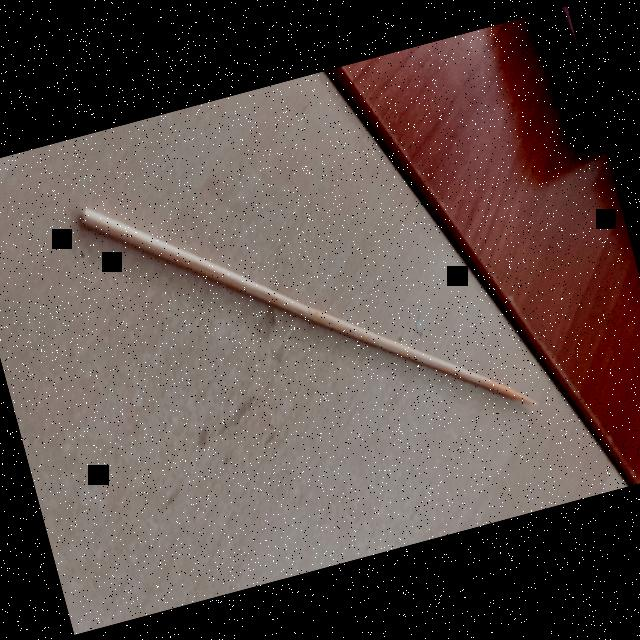stick: (71, 104, 538, 507)
